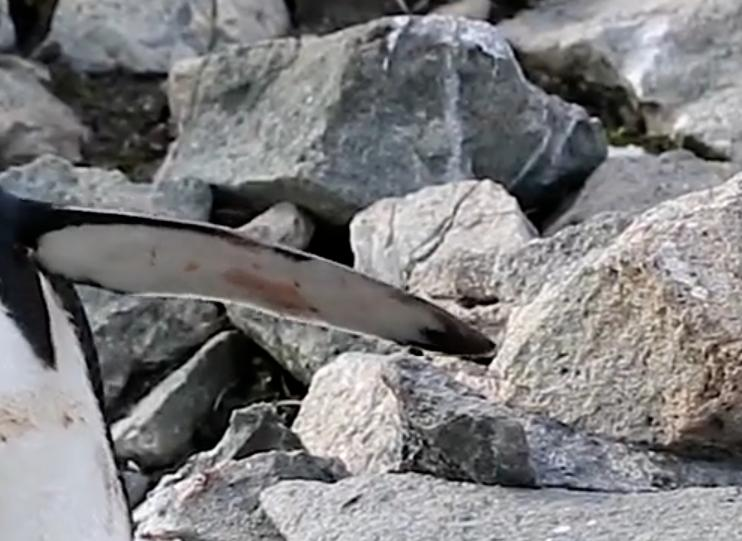Chinstrap Penguin: (0, 47, 508, 541)
